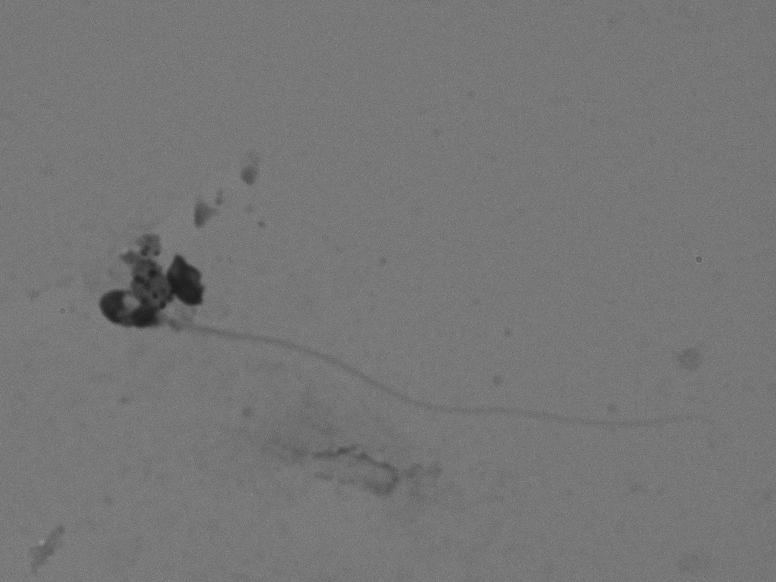Abnormal: (75, 278, 724, 447)
